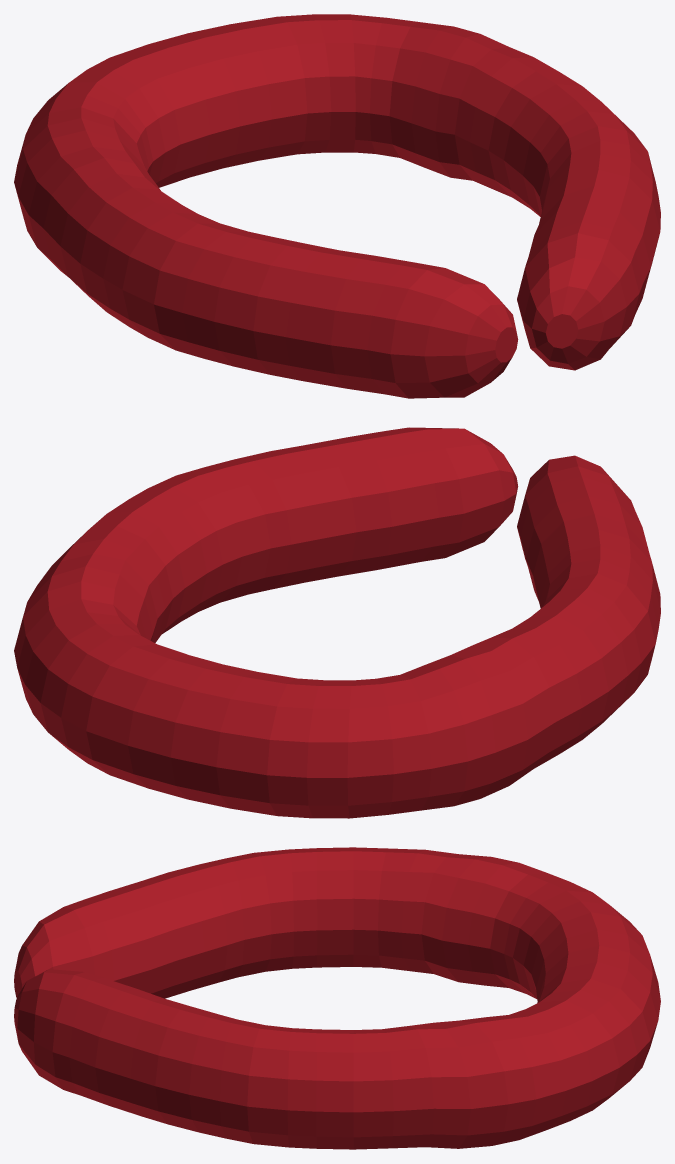
File: rookworst.fbx
3 renders of one model, top to bottom at view 1: azimuth 30°, elevation 25°; view 2: azimuth 150°, elevation 25°; view 3: azimuth 270°, elevation 25°, orthographic. The views are drawn at different scales.
Parts seen in each view (by area): view 1: Torus; view 2: Torus; view 3: Torus.
Part boxes in pixels (x1,y1,x2,y2): Torus: (14,14,660,398); Torus: (14,427,660,818); Torus: (14,847,660,1149).
Size of the model in its own units: 632 by 156 by 759.
